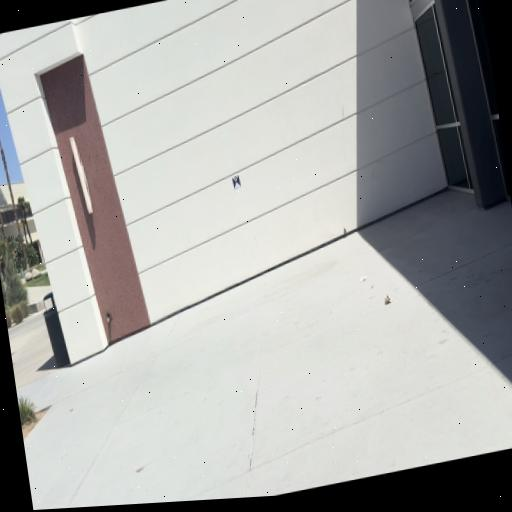target0: (232, 173, 242, 190)
